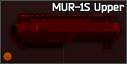AR-15 Vltor MUR-1S 5.56x45 upper receiver: (0, 0, 127, 64)
